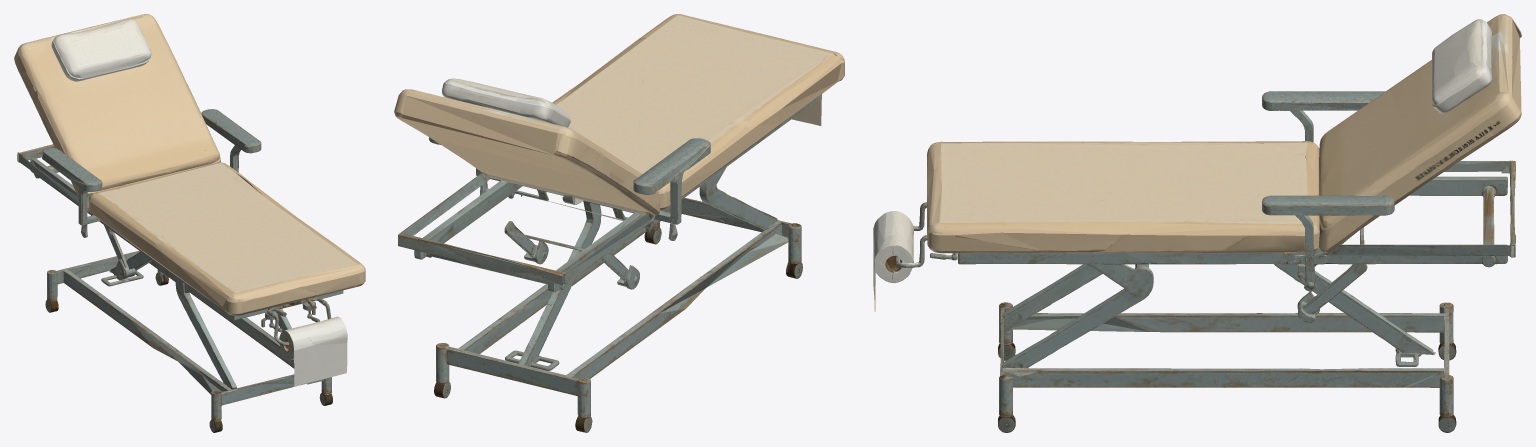
The model's file is lettino_A.glb.
3 views of the same model, side by side, from view 1: azimuth 30°, elevation 25°; view 2: azimuth 150°, elevation 25°; view 3: azimuth 270°, elevation 25° (orthographic). The views are drawn at different scales.
Size of the model in its own units: 0.8013 by 1.14 by 1.9.
Materials: 1 (1 with a texture image).
